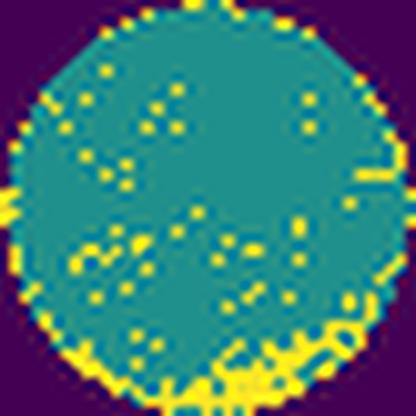Edge-Loc: (53, 287, 390, 416)
